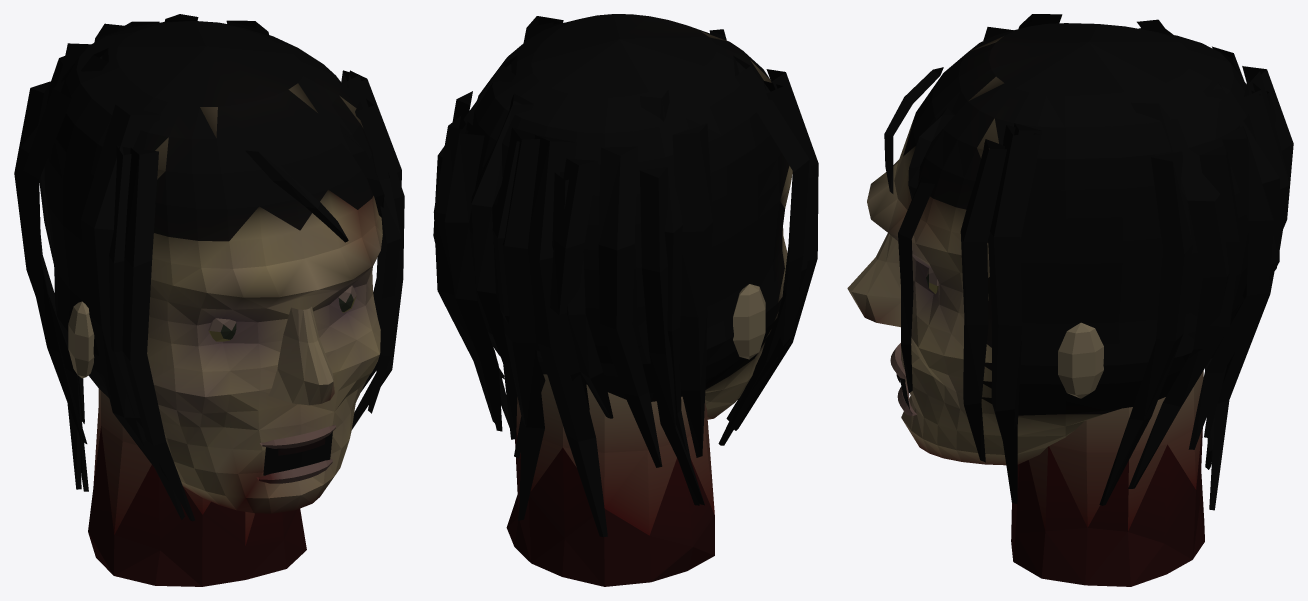
The model's file is hw_head.glb.
3 views of the same model, side by side, from view 1: azimuth 30°, elevation 25°; view 2: azimuth 150°, elevation 25°; view 3: azimuth 270°, elevation 25° (orthographic).
Parts seen in each view (by area): view 1: hw_head; view 2: hw_head; view 3: hw_head.
Boxes of the visible parts, x1=… form: hw_head: x1=14, y1=14, x2=404, y2=586; hw_head: x1=433, y1=14, x2=818, y2=586; hw_head: x1=847, y1=14, x2=1293, y2=586.
Bounding box in the file's own units: 0.1794 × 0.288 × 0.2333.
